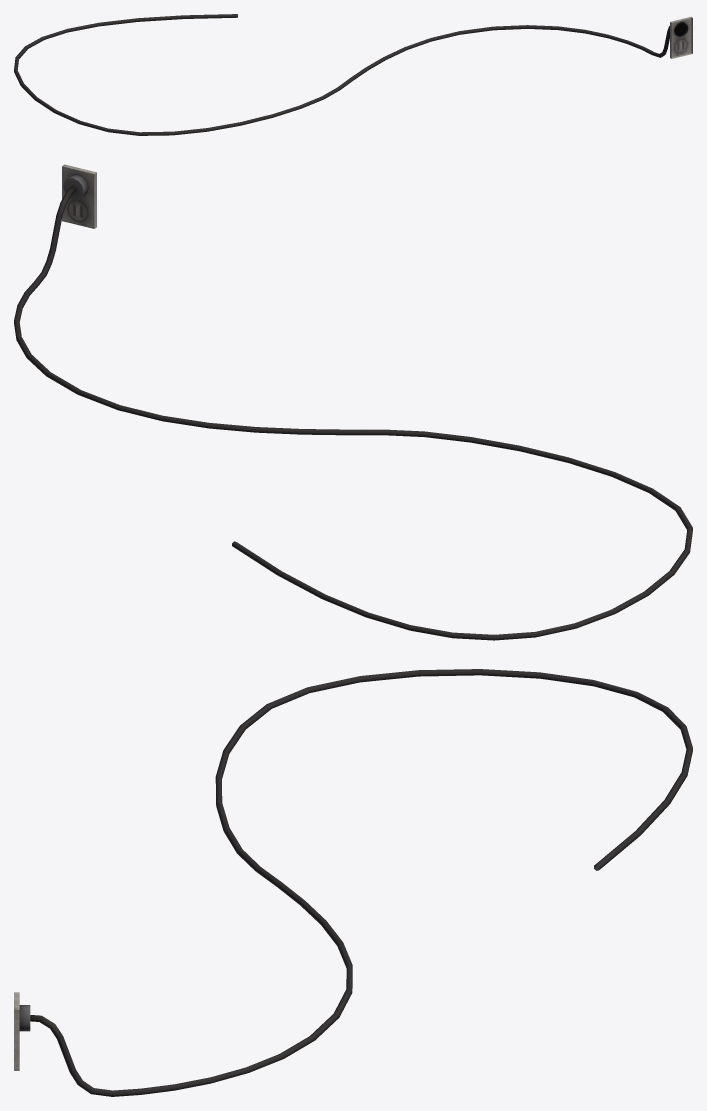
File: med_cable001.glb
3 renders of one model, top to bottom at view 1: azimuth 30°, elevation 25°; view 2: azimuth 150°, elevation 25°; view 3: azimuth 270°, elevation 25°, orthographic. The views are drawn at different scales.
Visible parts, largest first — view 1: med_cable001; view 2: med_cable001; view 3: med_cable001.
Part boxes in pixels (x1=…): med_cable001: x1=14, y1=14, x2=692, y2=135; med_cable001: x1=14, y1=164, x2=692, y2=640; med_cable001: x1=14, y1=669, x2=692, y2=1096.
Size of the model in its own units: 3.33 by 0.3443 by 2.21.
1 material, 1 textured.
